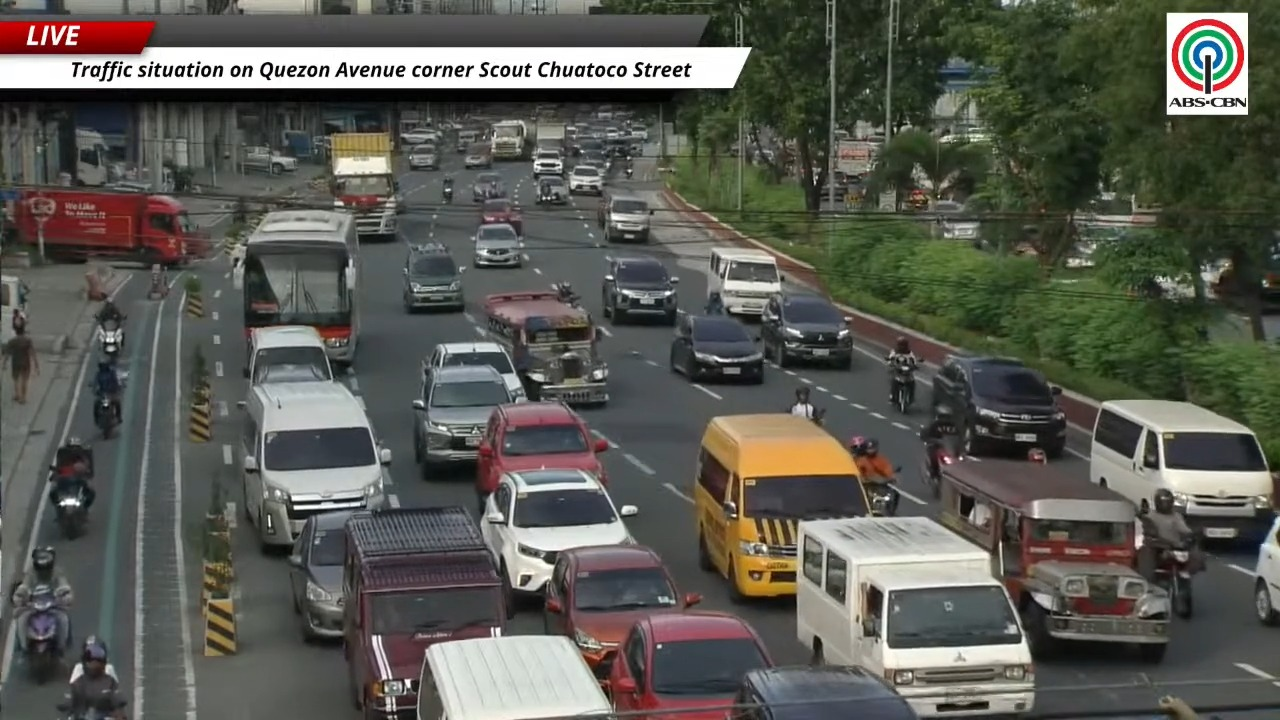bus: (233, 209, 360, 368)
car: (480, 469, 637, 607), (543, 545, 701, 669), (602, 611, 773, 719), (931, 354, 1066, 458), (412, 366, 513, 479), (476, 401, 608, 486), (731, 665, 919, 719), (289, 511, 351, 640), (760, 290, 853, 368), (669, 313, 764, 383), (422, 341, 525, 401), (602, 256, 678, 324), (403, 242, 464, 312), (597, 191, 651, 242), (1254, 516, 1279, 625), (473, 223, 523, 267), (930, 200, 979, 241), (480, 198, 522, 235), (569, 165, 603, 194), (473, 173, 505, 202), (536, 176, 569, 204), (532, 150, 563, 177), (407, 144, 439, 169), (577, 149, 610, 173), (578, 131, 604, 161), (400, 126, 439, 145), (455, 129, 480, 154), (464, 149, 492, 169), (629, 126, 647, 142), (605, 127, 621, 139)
motorcycle: (1144, 521, 1196, 618), (22, 585, 62, 684), (921, 443, 961, 498), (52, 478, 87, 539), (56, 700, 126, 719), (864, 480, 898, 516), (93, 393, 119, 439), (891, 363, 914, 414), (97, 320, 124, 361), (147, 272, 168, 299), (556, 284, 579, 307), (810, 408, 825, 426), (442, 186, 453, 203), (624, 166, 633, 178)
truck: (796, 517, 1034, 717), (341, 506, 509, 717), (14, 188, 210, 266), (329, 132, 399, 240), (75, 127, 110, 186), (490, 120, 533, 160), (241, 146, 298, 175), (835, 140, 878, 176), (536, 121, 566, 152)
